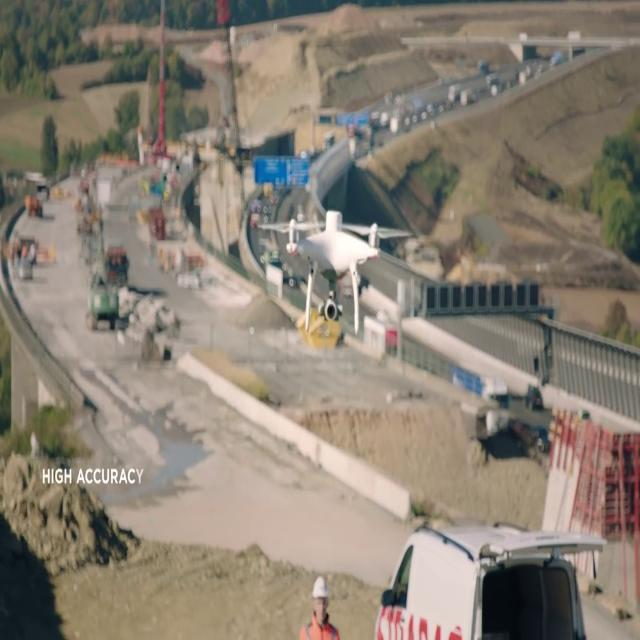drone: (261, 209, 414, 337)
